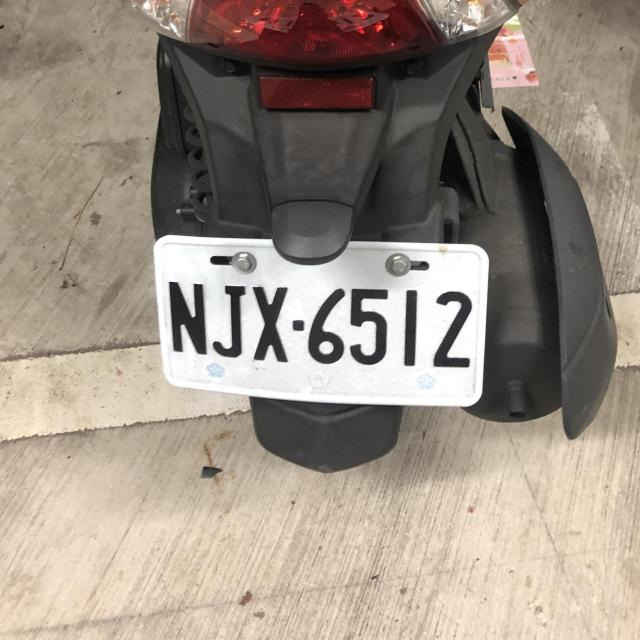W: (144, 227, 493, 410)
